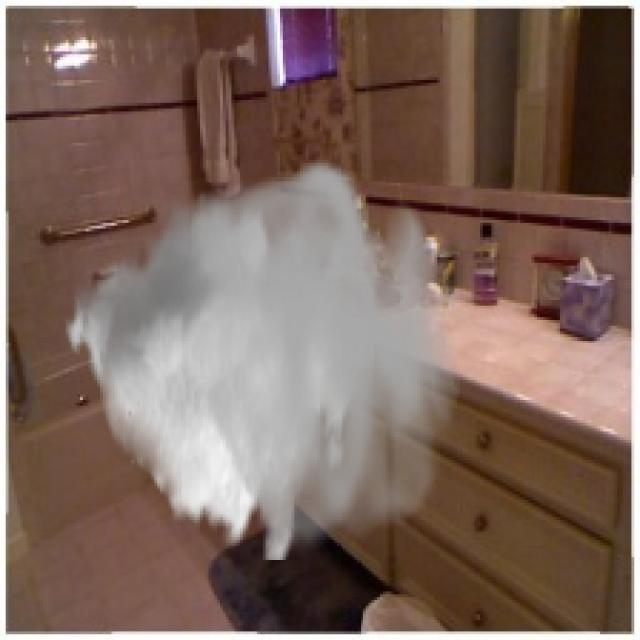smoke: (63, 154, 460, 560)
